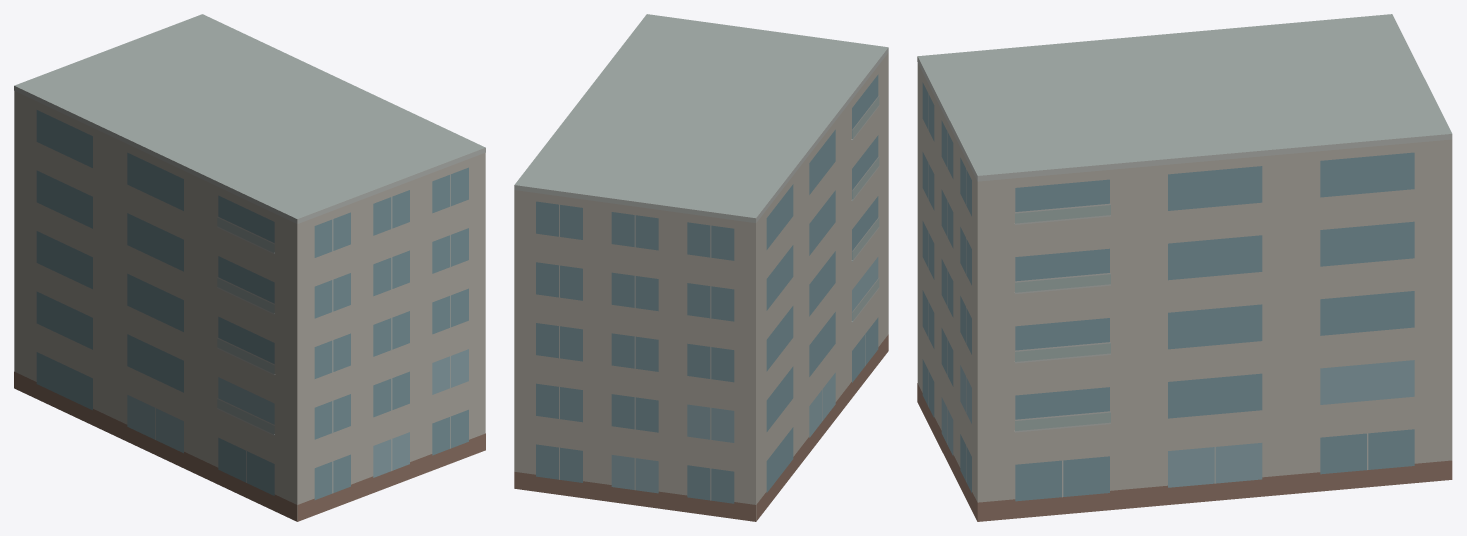
File: survey-upis-32717844.glb
3 views of the same model, side by side, from view 1: azimuth 30°, elevation 25°; view 2: azimuth 150°, elevation 25°; view 3: azimuth 270°, elevation 25° (orthographic). The views are drawn at different scales.
Visible parts, largest first — view 1: survey-upis-32717844.tmp; view 2: survey-upis-32717844.tmp; view 3: survey-upis-32717844.tmp.
Boxes of the visible parts, x1,y1,x2,y2 form: survey-upis-32717844.tmp: (14, 14, 485, 521); survey-upis-32717844.tmp: (514, 14, 888, 521); survey-upis-32717844.tmp: (917, 14, 1452, 521).
Size of the model in its own units: 15.07 by 15 by 21.03.
